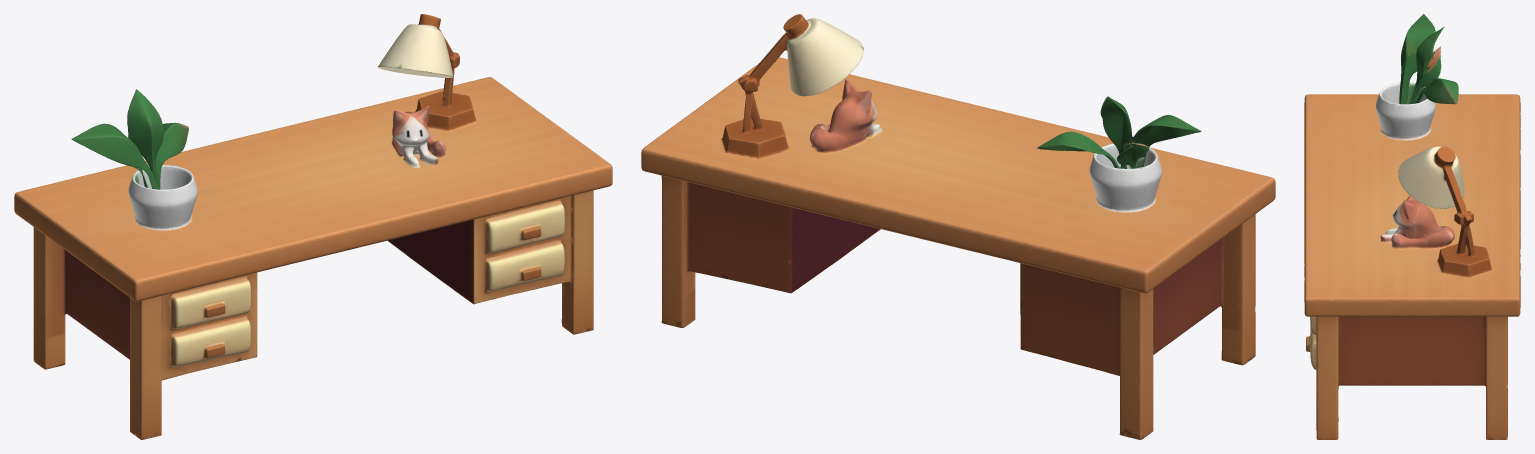
Rendered from Estacion_Bienestar.glb.
The picture shows the model from 3 angles, left to right: view 1: azimuth 30°, elevation 25°; view 2: azimuth 150°, elevation 25°; view 3: azimuth 270°, elevation 25°; orthographic projection. The views are drawn at different scales.
Size of the model in its own units: 1.9 by 1.09 by 0.8447.
1 material, 1 textured.
